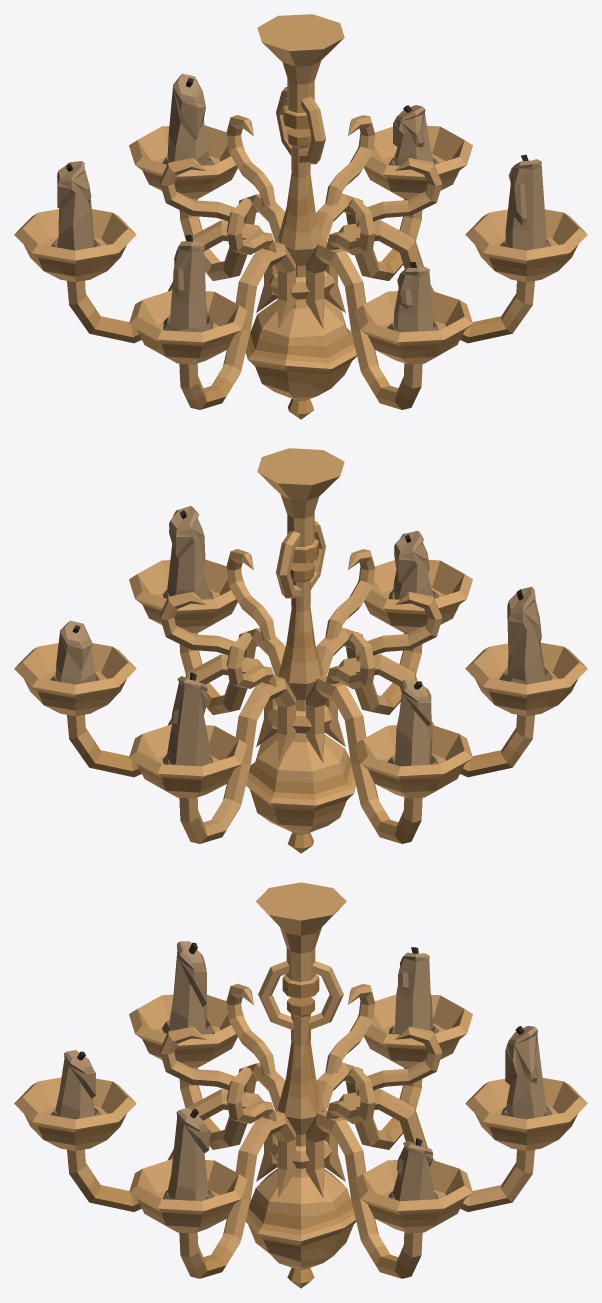
File: SM_Prop_Chandelier_02.fbx
3 renders of one model, top to bottom at view 1: azimuth 30°, elevation 25°; view 2: azimuth 150°, elevation 25°; view 3: azimuth 270°, elevation 25°, orthographic.
Parts seen in each view (by area): view 1: SM_Prop_Chandelier_02; view 2: SM_Prop_Chandelier_02; view 3: SM_Prop_Chandelier_02.
Part boxes in pixels (x1,y1,x2,y2): SM_Prop_Chandelier_02: (14,14,587,419); SM_Prop_Chandelier_02: (14,448,587,853); SM_Prop_Chandelier_02: (14,882,587,1288).
Size of the model in its own units: 155 by 130 by 175.
